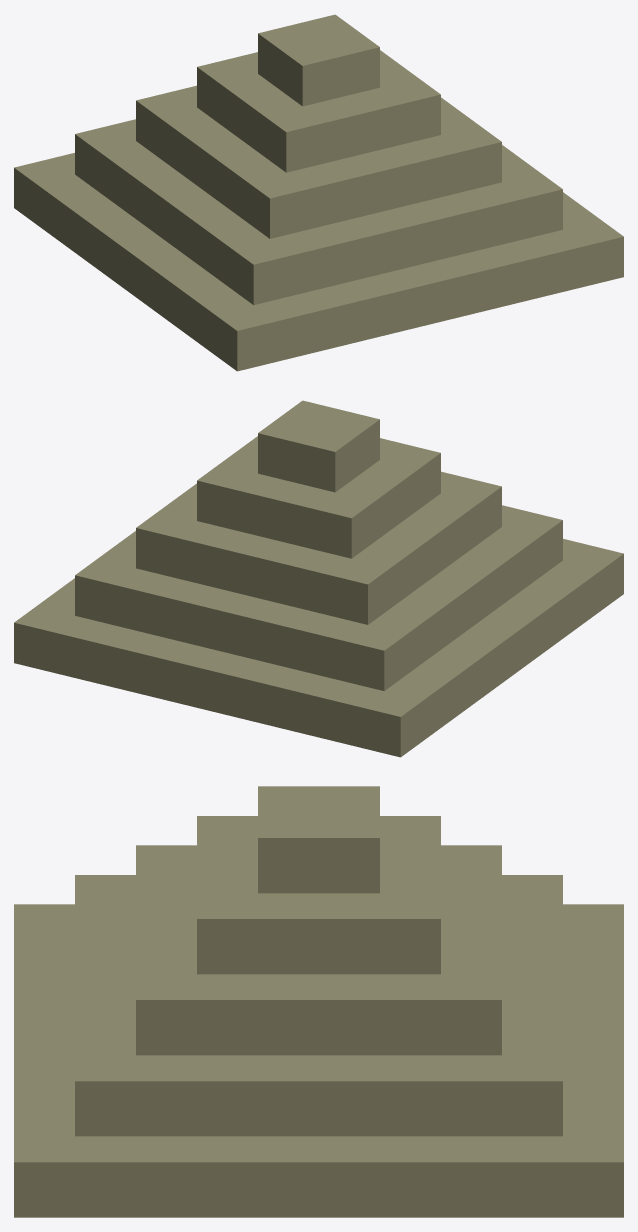
The model's file is overworld-19-props_pyramid.obj.
The picture shows the model from 3 angles, top to bottom: view 1: azimuth 30°, elevation 25°; view 2: azimuth 150°, elevation 25°; view 3: azimuth 270°, elevation 25°; orthographic projection. The views are drawn at different scales.
Visible parts, largest first — view 1: props_pyramid; view 2: props_pyramid; view 3: props_pyramid.
Part boxes in pixels (bbox=[...]): props_pyramid: bbox=[14, 14, 623, 371]; props_pyramid: bbox=[14, 400, 623, 757]; props_pyramid: bbox=[14, 786, 623, 1217].
Size of the model in its own units: 1 by 0.5 by 1.
Materials: 1 (1 with a texture image).
